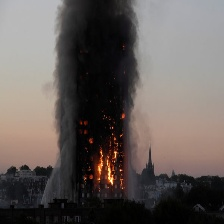fire: (95, 148, 127, 190), (110, 112, 125, 144), (78, 117, 94, 145), (80, 167, 93, 182)
smoke: (50, 1, 150, 160)
